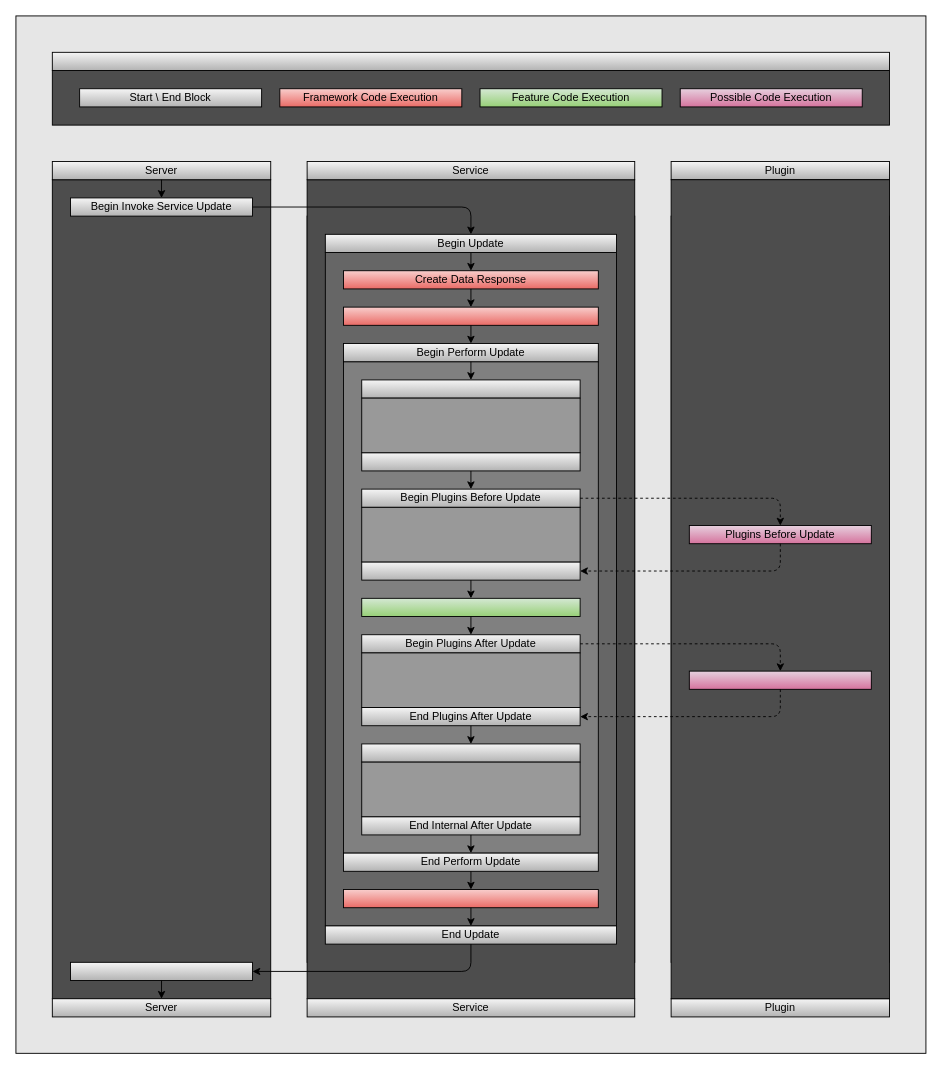
This 942x1069 diagram has some shape labels left out. Here are the shapes that lost their labels. From the top down, the centre of each, then its label:
At (470,61): "Legend".
At (470,315): "Open Database Connection".
At (470,388): "Begin Internal Before Update".
At (470,461): "End Internal Before Update".
At (470,570): "End Plugins Before Update".
At (470,607): "On Update".
At (779,679): "Plugins After Update".
At (470,752): "Begin Internal After Update".
At (470,898): "Close Database Connection".
At (161,971): "End Invoke Service Update".
